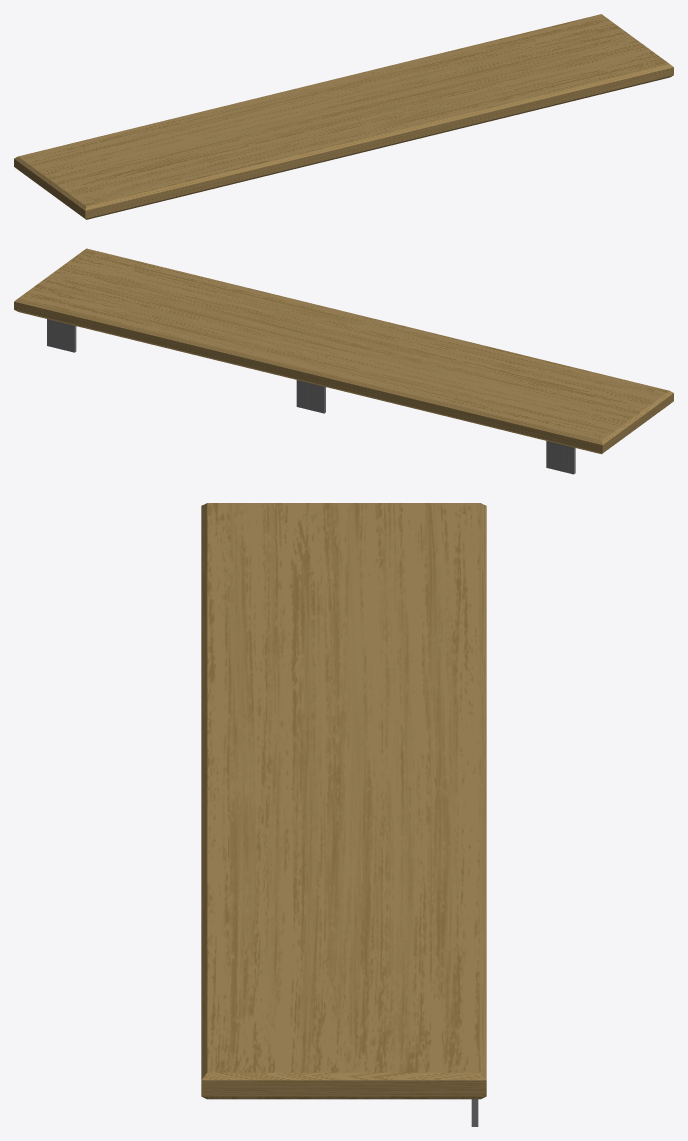
The model's file is TexturedShelf.fbx.
The picture shows the model from 3 angles, top to bottom: view 1: azimuth 30°, elevation 25°; view 2: azimuth 150°, elevation 25°; view 3: azimuth 270°, elevation 25°; orthographic projection. The views are drawn at different scales.
Visible parts, largest first — view 1: pCube1; view 2: pCube1, pCube2, pasted__pCube2, pasted__pCube3; view 3: pCube1.
Part boxes in pixels (x1,y1,x2,y2): pCube1: (14,14,673,219); pCube1: (14,248,673,454); pCube2: (296,380,325,413); pasted__pCube2: (546,441,575,474); pasted__pCube3: (47,319,76,352); pCube1: (201,503,486,1099).
Bounding box in the file's own units: 21.23 × 1.41 × 4.45.
Materials: 2 (2 with a texture image).
